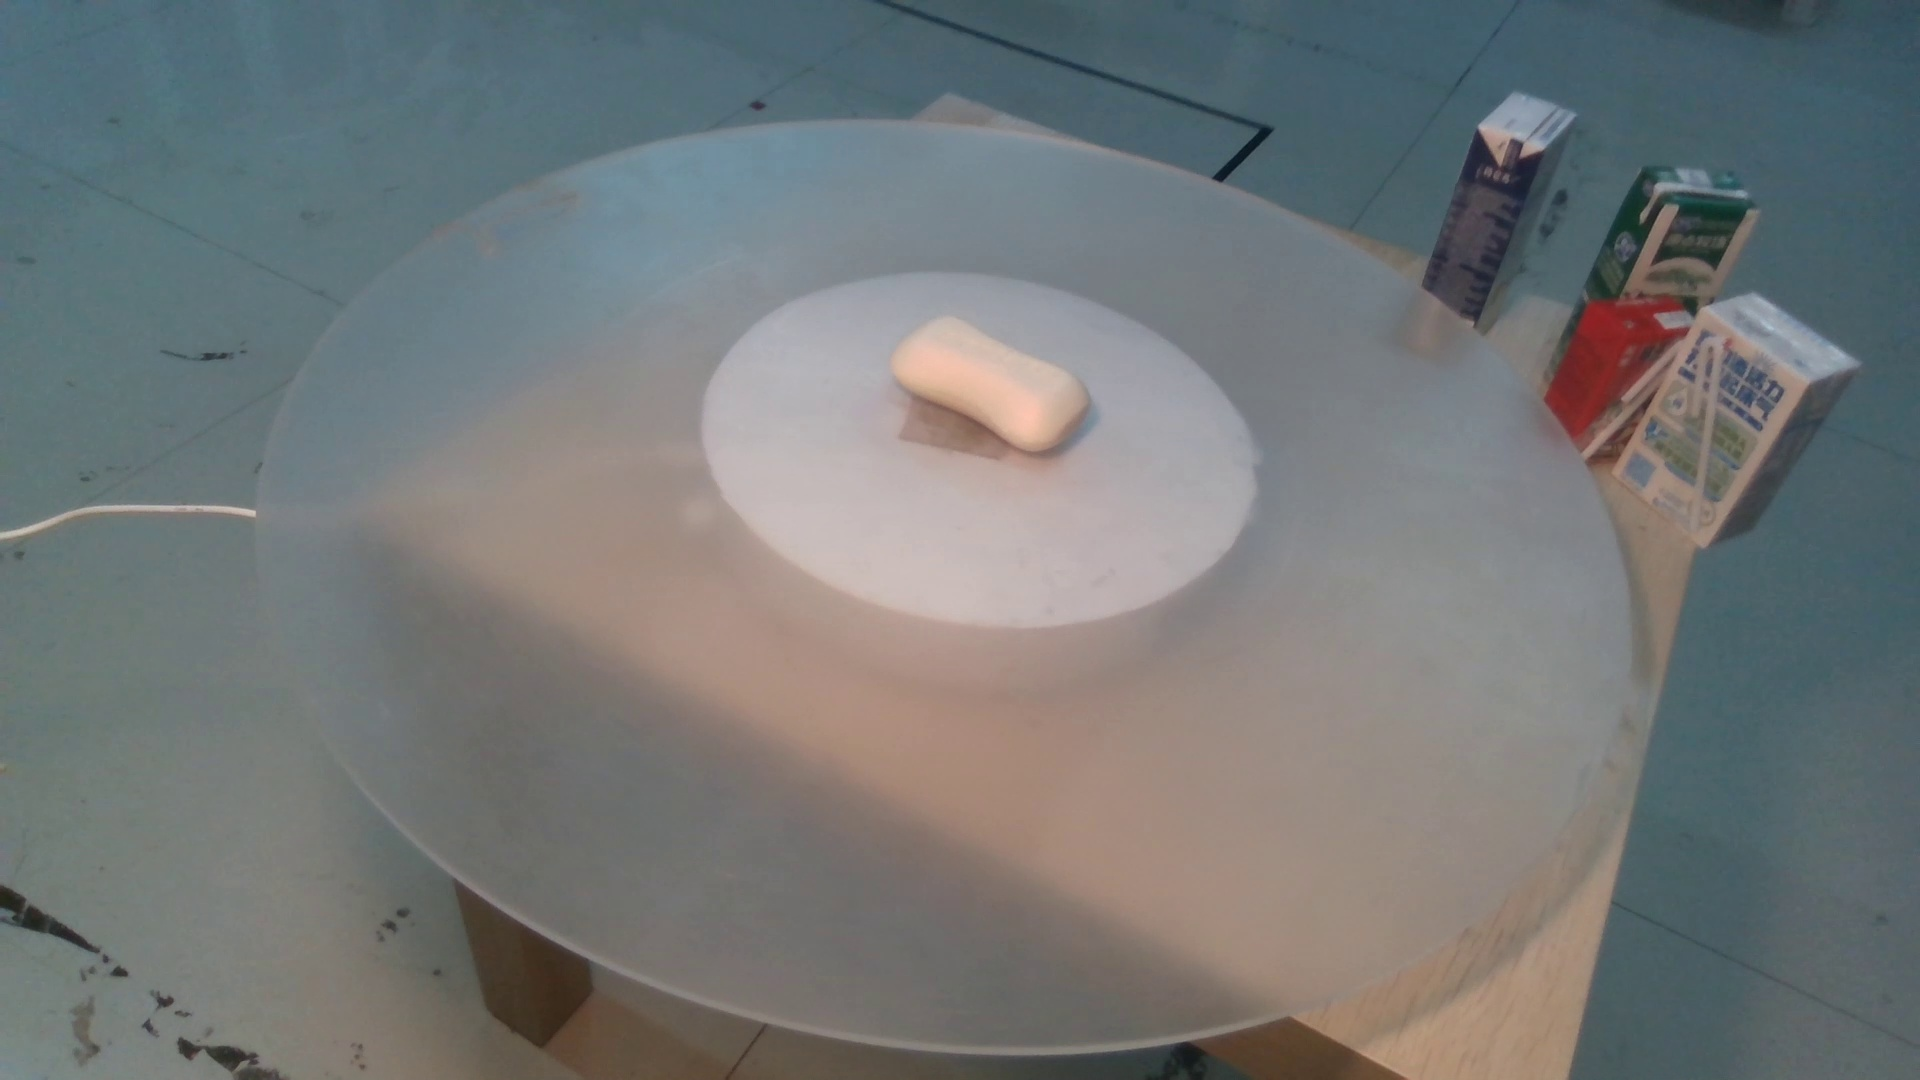CA003_1: (855, 305, 1133, 458)
